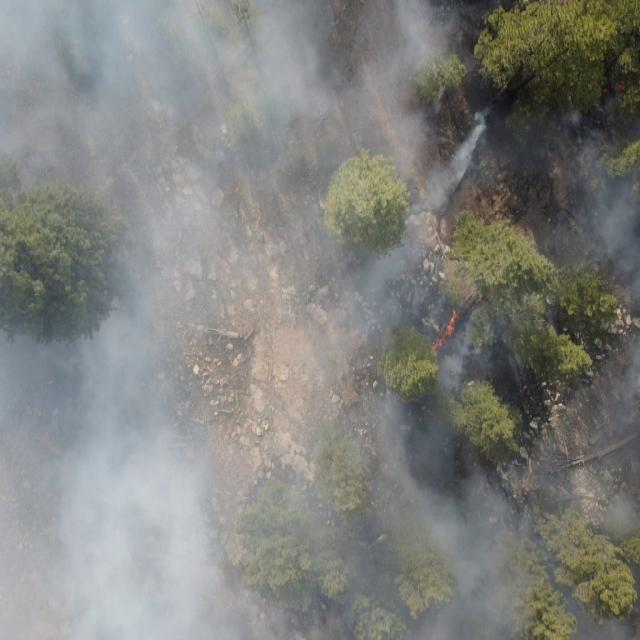fire: (426, 304, 465, 358)
smoke: (0, 0, 640, 640)
